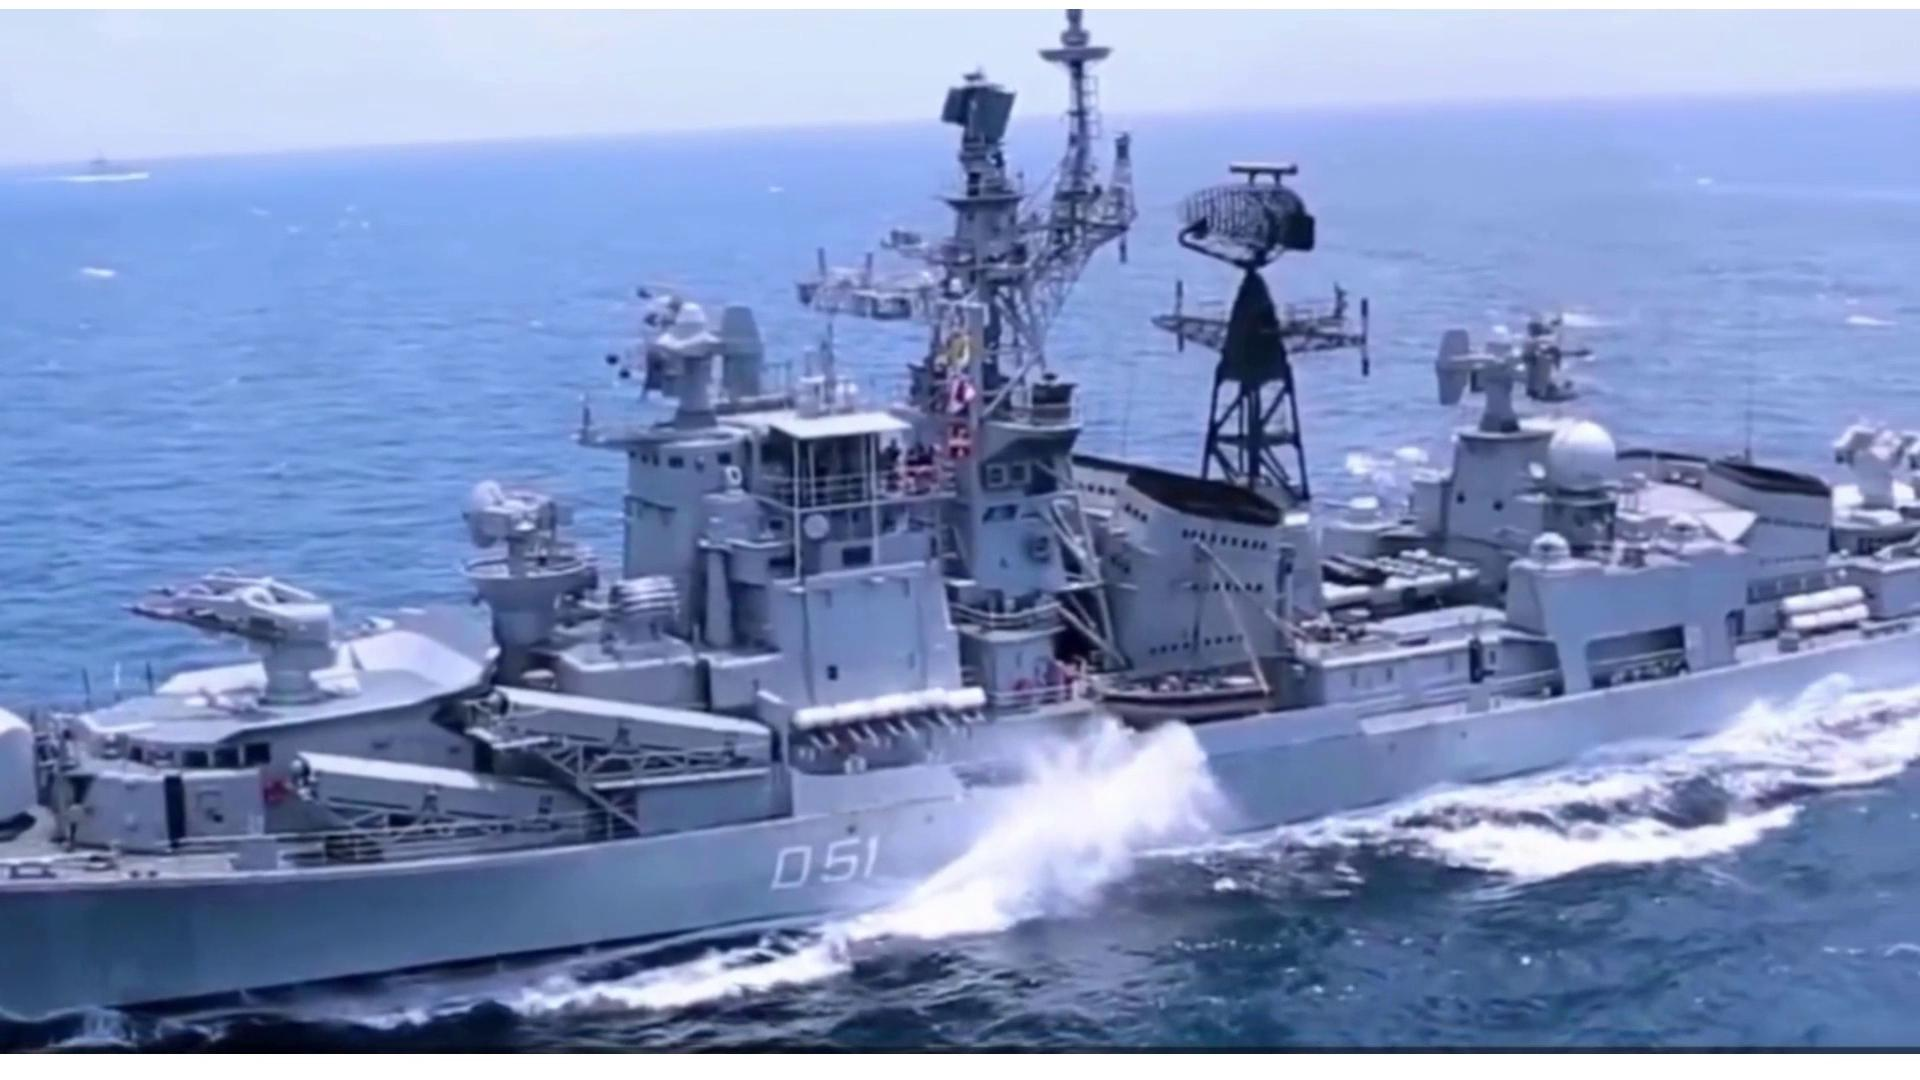OCR: (748, 820, 898, 906)
